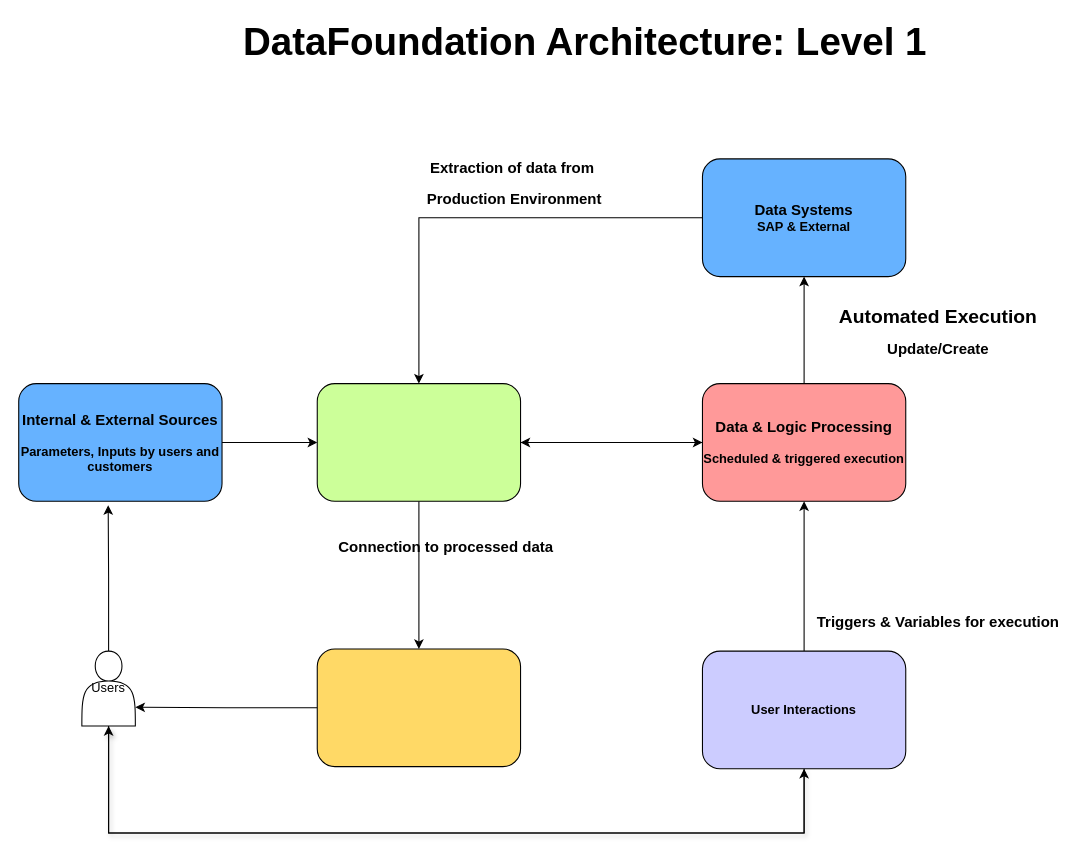
This 1077x868 diagram has some shape labels left out. The centre of each missing label's shape, as x and y in pixels:
"Cloud Storage Sharepoint, Dataverse, Database" goes at point (418, 442).
"Visualization & Analysis Files and PowerBI" goes at point (418, 707).
